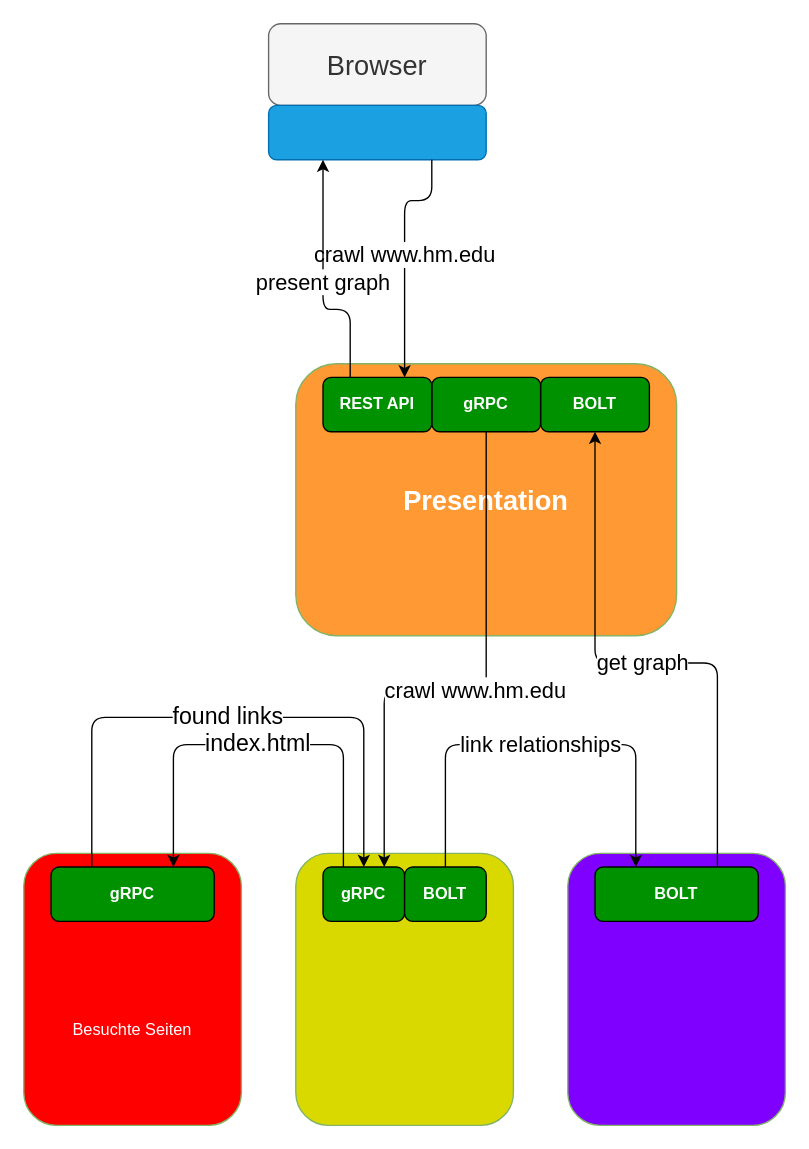
Image size: 809x1149. Some labels were removed from this diagram. The box of each missing label's shape, as (x1, y1, x2, y2) in pixels:
Analyzer: (22, 852, 241, 1125)
Crawler: (294, 852, 513, 1125)
Persistenz: (566, 852, 785, 1125)
UI: (267, 104, 486, 160)
